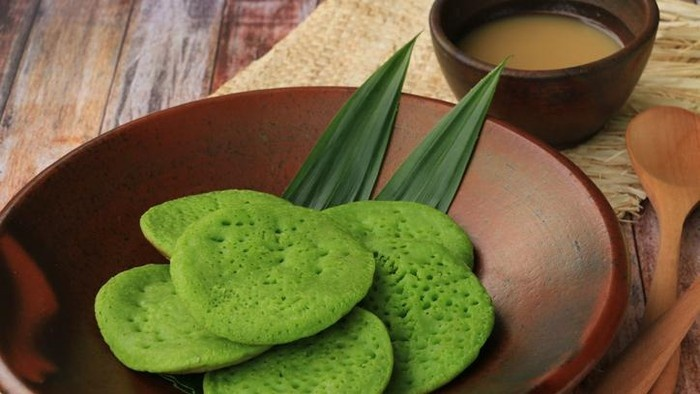srabi: (171, 216, 379, 344)
